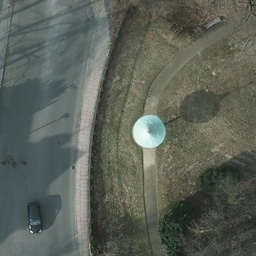car: (25, 203, 43, 235)
